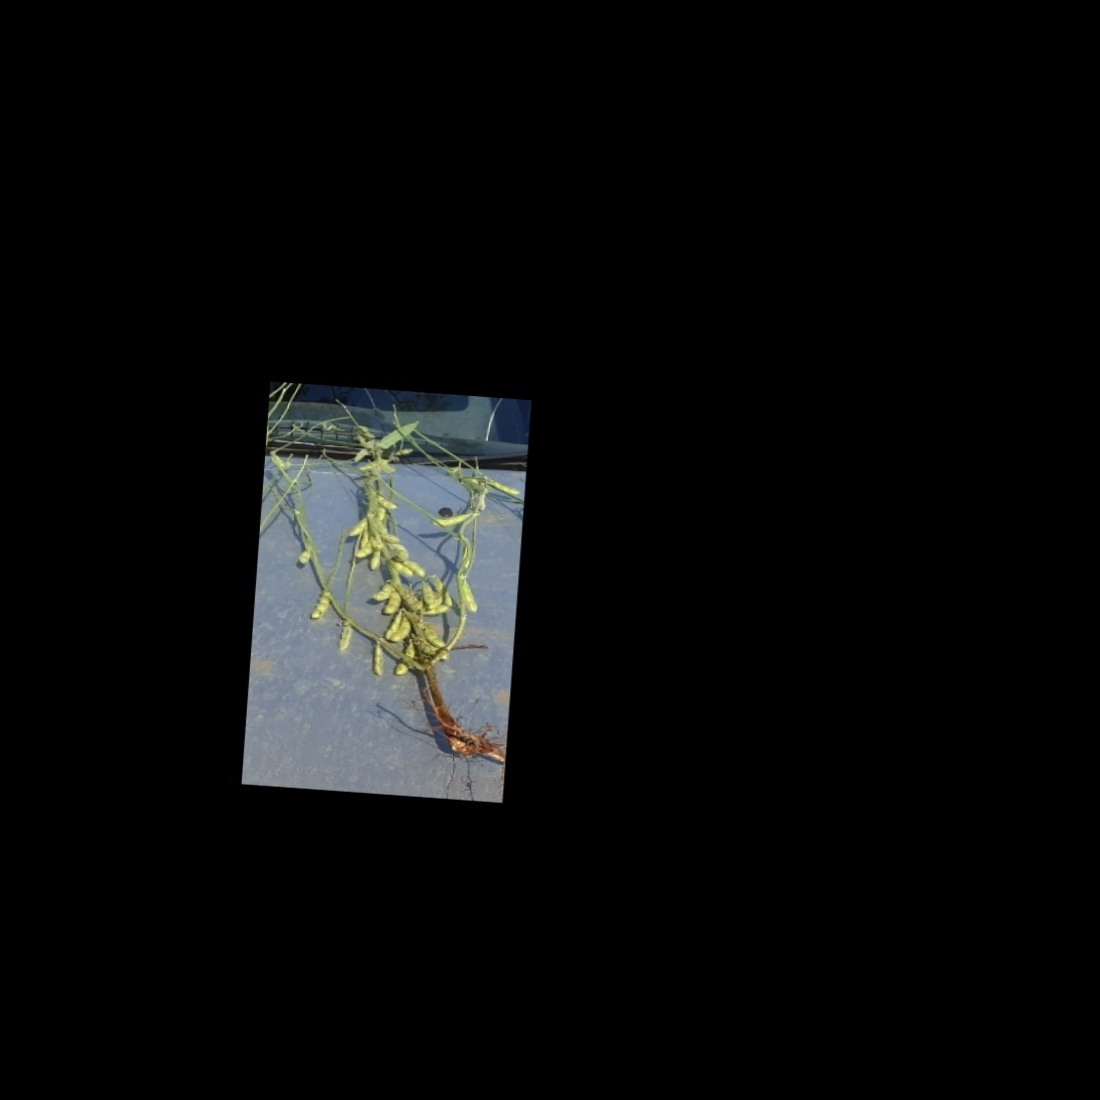pod: (457, 577, 483, 615), (308, 588, 334, 623), (429, 511, 475, 529), (369, 637, 388, 677), (378, 587, 406, 614), (368, 580, 397, 601), (334, 620, 354, 651)
soy: (251, 407, 523, 771)
